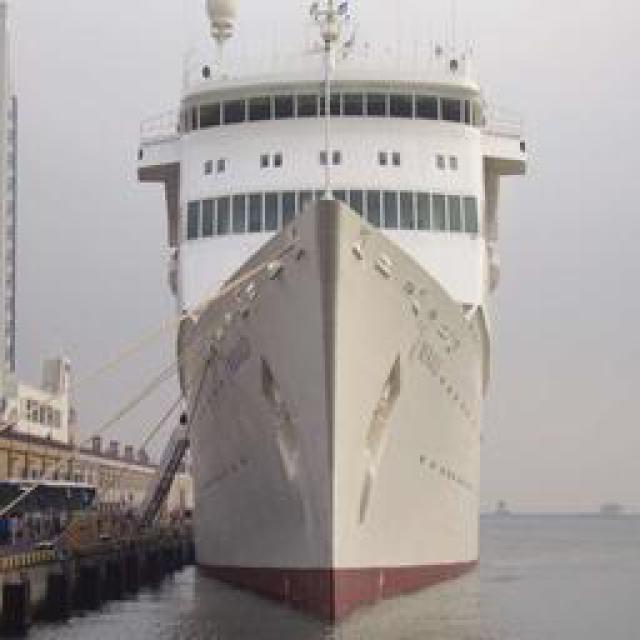Ship: (126, 1, 541, 640)
